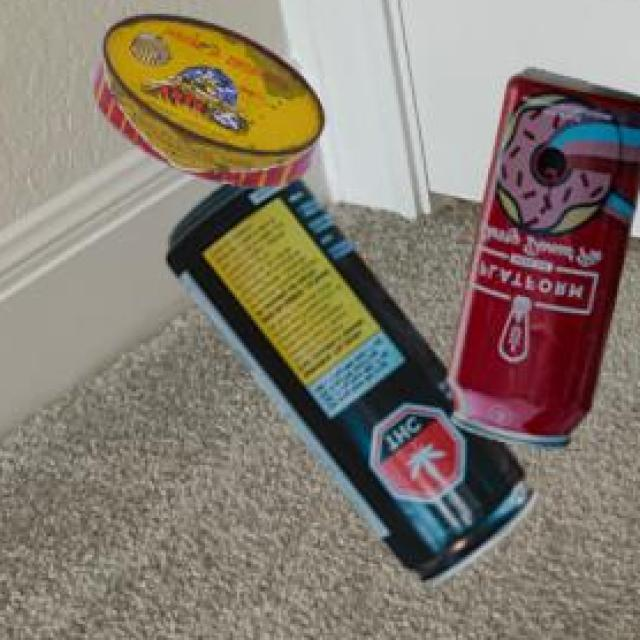logam: (169, 174, 540, 581), (450, 66, 640, 445), (98, 10, 328, 183)
